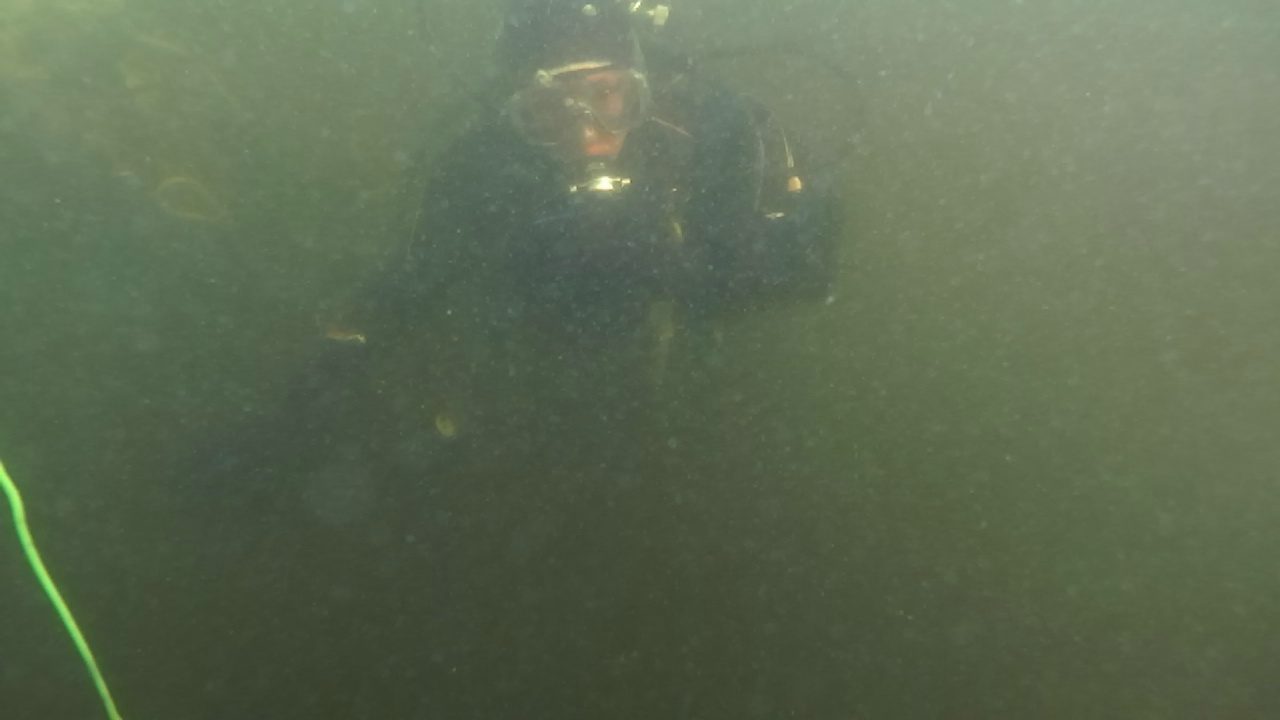Diver: (330, 2, 886, 334)
Head: (488, 12, 670, 202)
